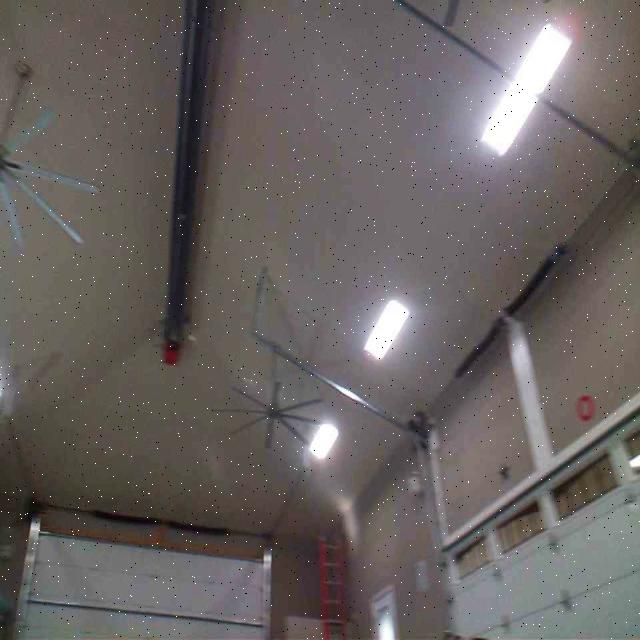ring_red: (576, 392, 595, 421)
star_black: (497, 460, 511, 482)
